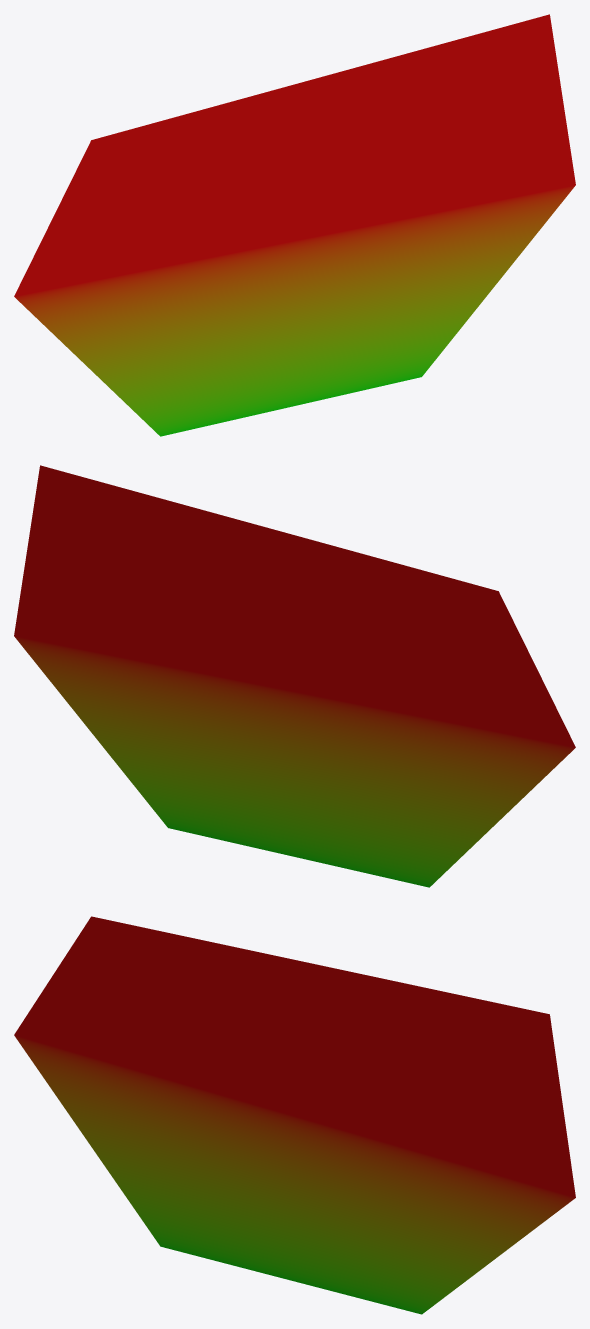
Rendered from Desert Cotton_LOD6_Var2_xeogciyqx.fbx.
3 renders of one model, top to bottom at view 1: azimuth 30°, elevation 25°; view 2: azimuth 150°, elevation 25°; view 3: azimuth 330°, elevation 25°, orthographic.
Parts seen in each view (by area): view 1: _3o4i_Var2_LOD6; view 2: _3o4i_Var2_LOD6; view 3: _3o4i_Var2_LOD6.
Part boxes in pixels (x1=…): _3o4i_Var2_LOD6: x1=14, y1=14, x2=575, y2=436; _3o4i_Var2_LOD6: x1=14, y1=465, x2=575, y2=887; _3o4i_Var2_LOD6: x1=14, y1=916, x2=575, y2=1314.
Size of the model in its own units: 80.76 by 45.52 by 7.42e-06.
